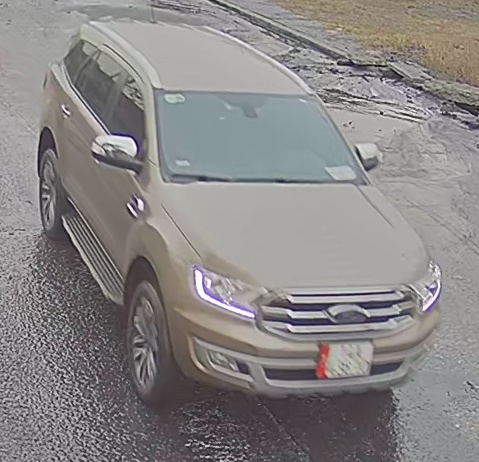vehicle plate: (313, 335, 372, 377)
